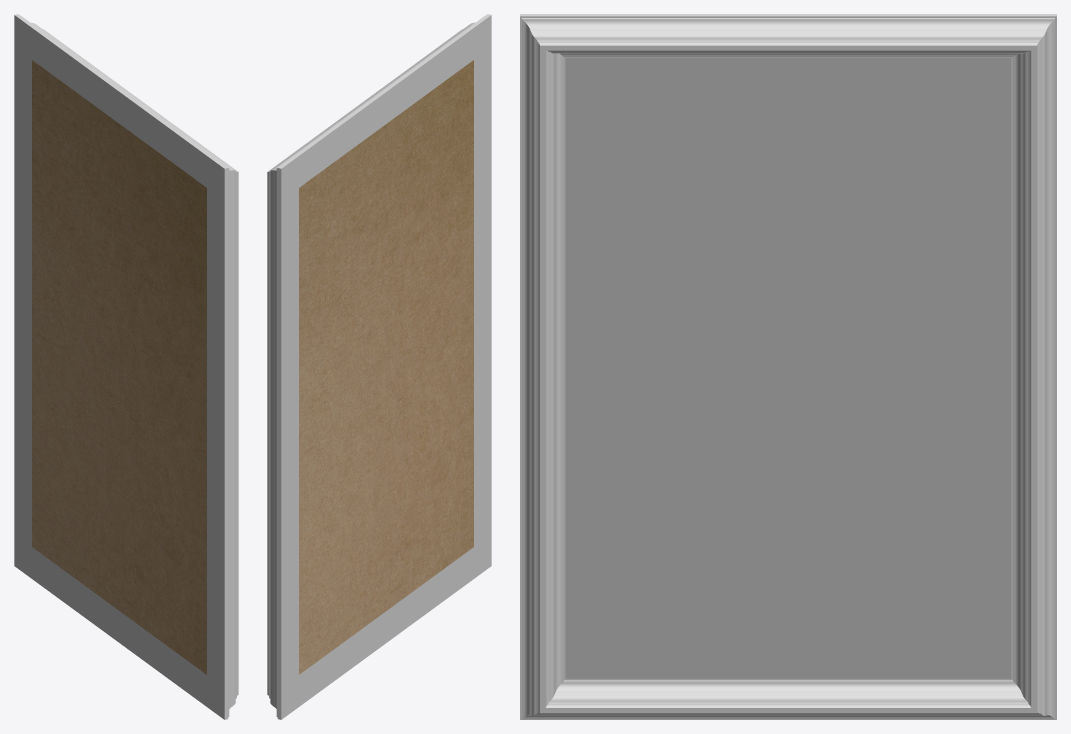
Rendered from Painting.fbx.
3 renders of one model, left to right at view 1: azimuth 30°, elevation 25°; view 2: azimuth 150°, elevation 25°; view 3: azimuth 270°, elevation 25°, orthographic. The views are drawn at different scales.
Parts seen in each view (by area): view 1: back, frame; view 2: back, frame; view 3: painting, frame.
Part boxes in pixels (x1,y1,x2,y2): back: (32, 60, 206, 674); frame: (14, 14, 238, 719); back: (299, 60, 473, 674); frame: (267, 14, 491, 719); painting: (565, 57, 1011, 678); frame: (520, 14, 1056, 719).
Size of the model in its own units: 22 by 531 by 367.
